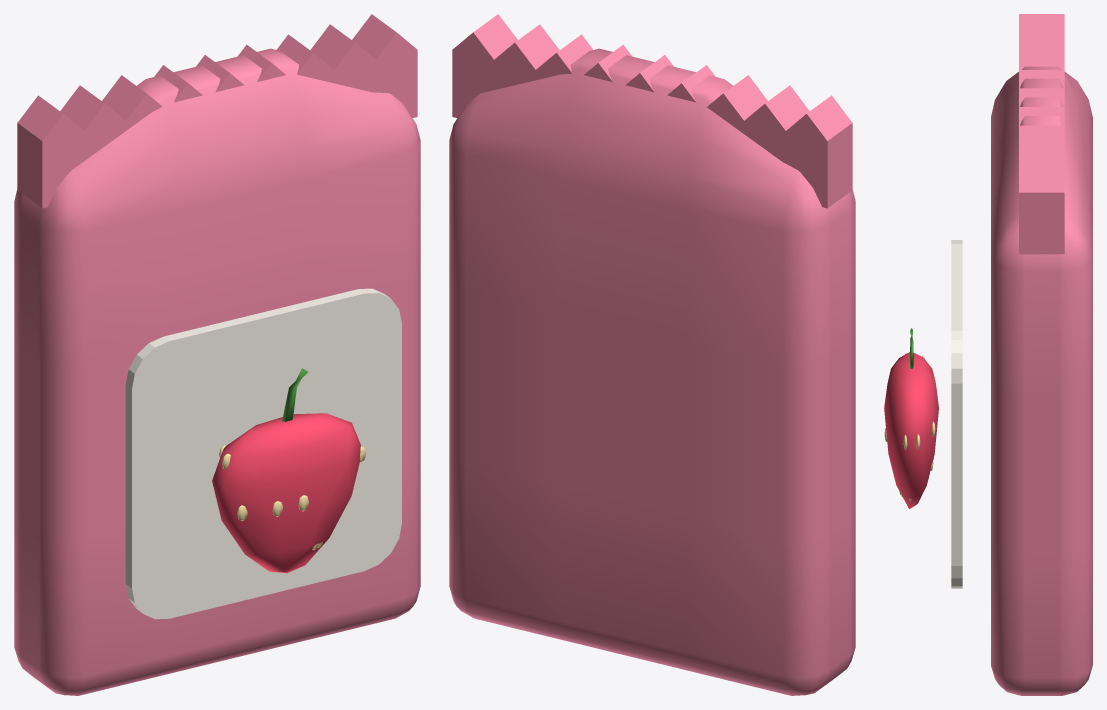
Rendered from semente-morango.glb.
The picture shows the model from 3 angles, left to right: view 1: azimuth 30°, elevation 25°; view 2: azimuth 150°, elevation 25°; view 3: azimuth 270°, elevation 25°; orthographic projection. The views are drawn at different scales.
Parts seen in each view (by area): view 1: semente-morango; view 2: semente-morango; view 3: semente-morango.
Boxes of the visible parts, left/top/right/bottom form: semente-morango: left=14, top=14, right=420, bottom=695; semente-morango: left=449, top=14, right=855, bottom=695; semente-morango: left=884, top=14, right=1092, bottom=695.
Size of the model in its own units: 0.14 by 0.208 by 0.0737.
